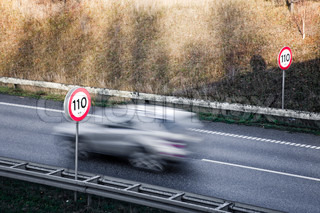Speed_limit_110km: (68, 87, 91, 121), (277, 46, 293, 71)
